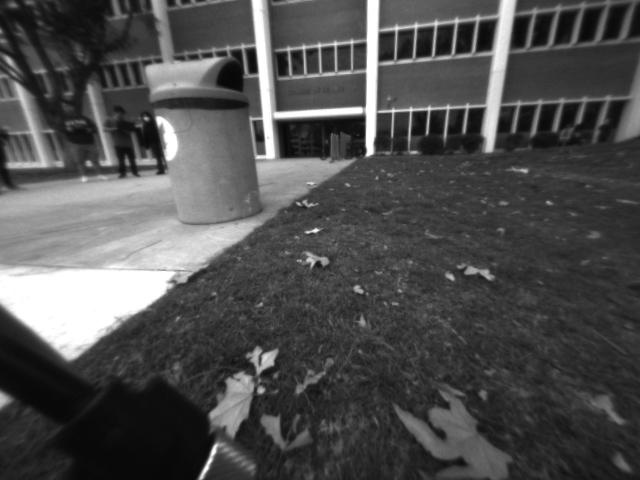trashcan: (141, 54, 277, 229)
